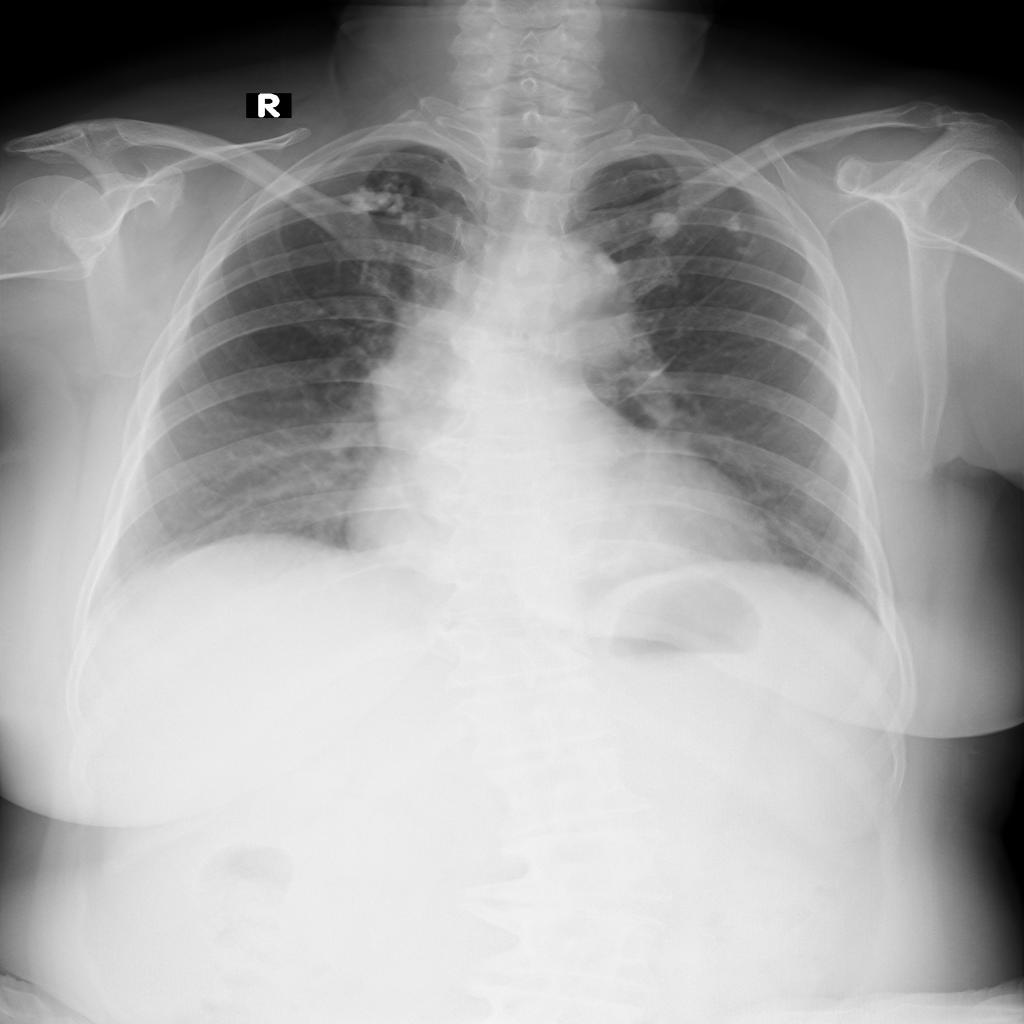Nodule: (648, 210, 681, 240), (724, 215, 745, 238), (790, 323, 812, 342), (736, 247, 755, 258)
